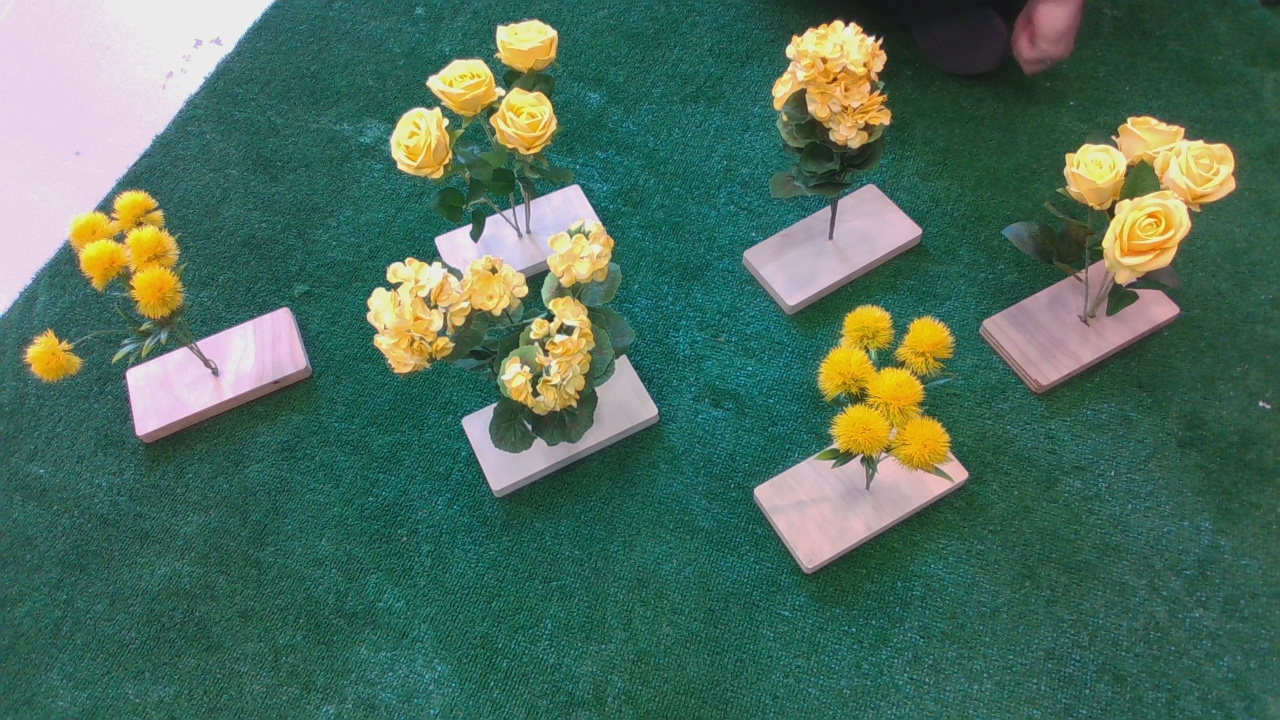dandelion: (19, 189, 211, 396), (821, 307, 970, 489)
geranium: (358, 224, 634, 455), (772, 26, 910, 207)
rose: (1004, 118, 1247, 308), (362, 22, 606, 189)
